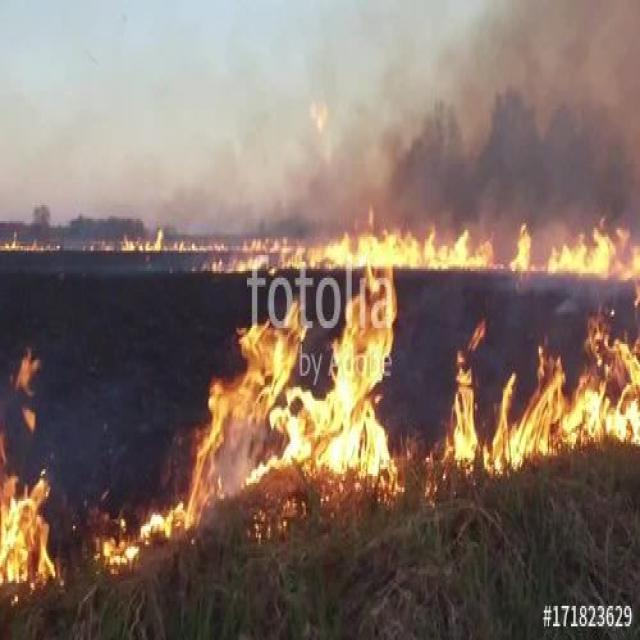Fire: (17, 272, 632, 592), (264, 230, 634, 268)
Smoke: (345, 0, 640, 223)
